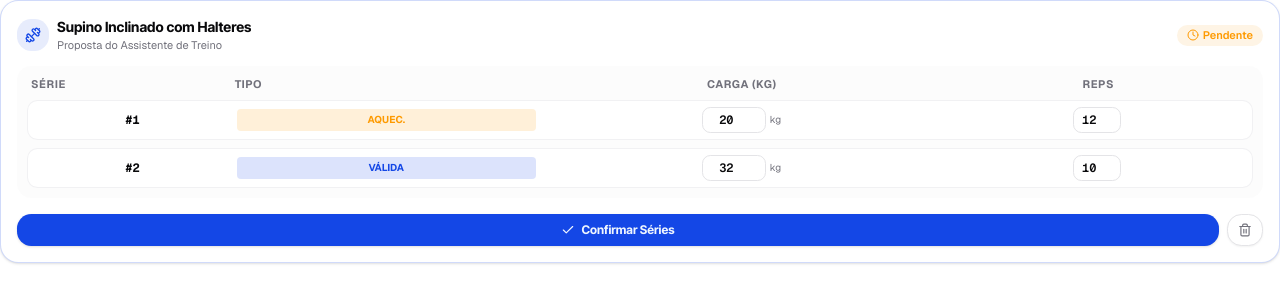
Test case: Task 6.5A — In-Session AI Assistant & Set Proposal Card UI › exibe aviso de desatualização quando revisão do contexto divergir (CONTEXT_REVISION_MISMATCH)
The image size is (1280, 281).
Click the button "Confirmar Séries" at (618, 230), box [17,214,1219,246]
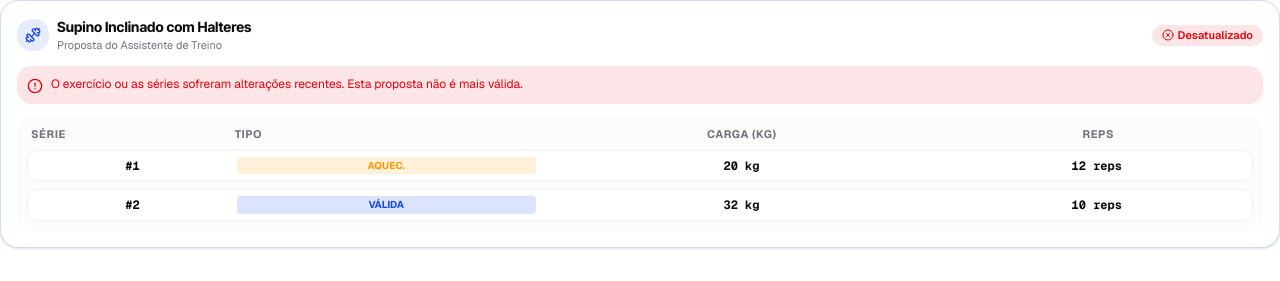
Now the text "Desatualizado" is shown, box [1152,25,1263,46]
Now the text "O exercício ou as séries sofreram alterações recentes. Esta proposta não é mais válida." is shown, box [51,76,523,92]
